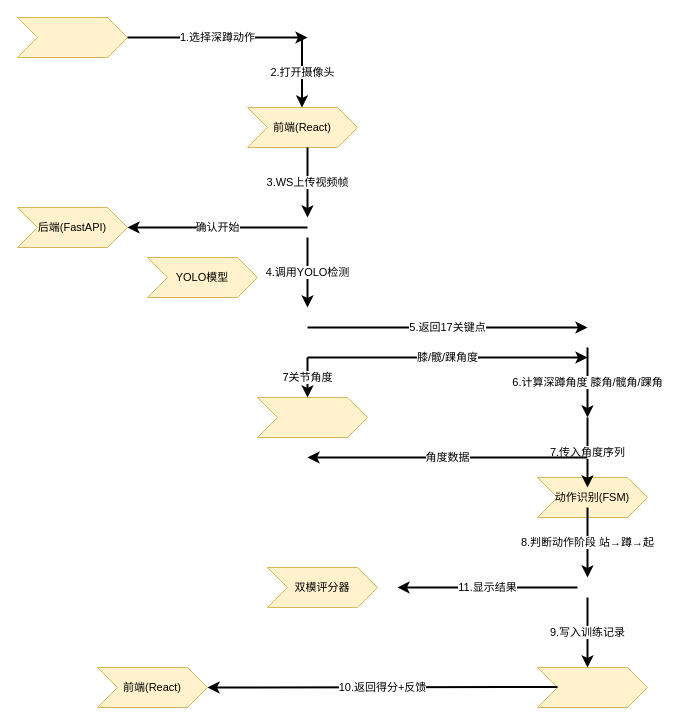
Image size: 680x725. Some labels were removed from this diagram. Here are the shapes that lost their labels. From the top down, the box of each, then its label:
(16, 16, 128, 58): 用户
(256, 396, 368, 438): 姿态分析器
(536, 666, 648, 708): 数据库
